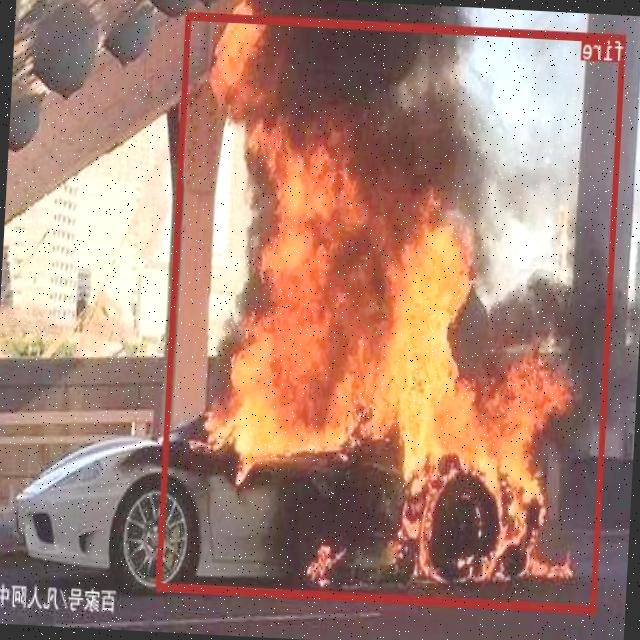fire: (158, 10, 628, 612)
